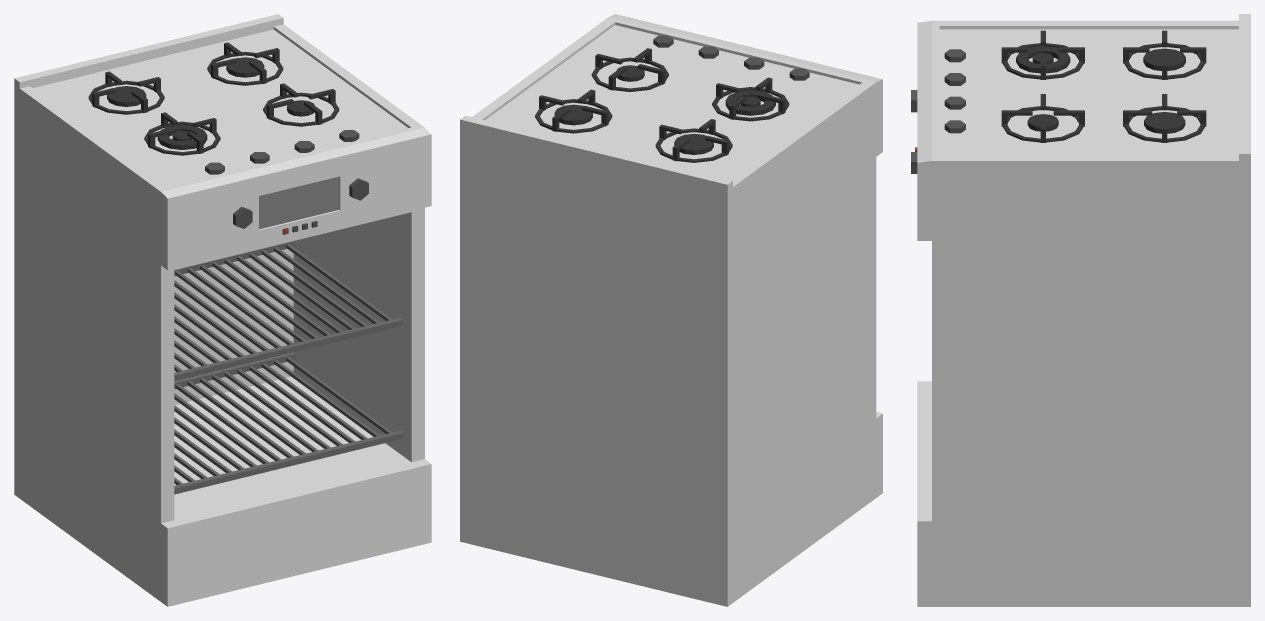
Rendered from Oven4_01.fbx.
3 views of the same model, side by side, from view 1: azimuth 30°, elevation 25°; view 2: azimuth 150°, elevation 25°; view 3: azimuth 270°, elevation 25° (orthographic). The views are drawn at different scales.
Parts seen in each view (by area): view 1: Oven4_01; view 2: Oven4_01; view 3: Oven4_01.
Boxes of the visible parts, box(x1,y1,x2,y2) form: Oven4_01: box(14, 14, 431, 606); Oven4_01: box(460, 14, 882, 606); Oven4_01: box(911, 14, 1250, 606).
Bounding box in the file's own units: 60 × 91.29 × 61.51.
